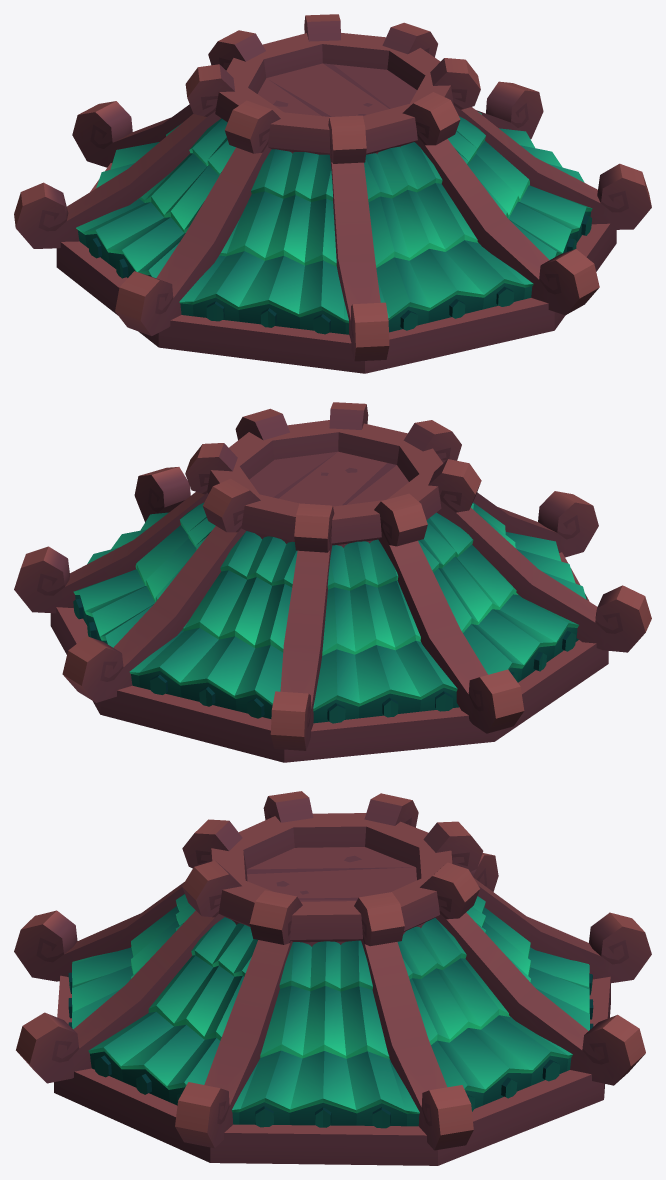
The model's file is roof.glb.
3 views of the same model, one above another, from view 1: azimuth 30°, elevation 25°; view 2: azimuth 150°, elevation 25°; view 3: azimuth 270°, elevation 25° (orthographic). The views are drawn at different scales.
Visible parts, largest first — view 1: roof; view 2: roof; view 3: roof.
Part boxes in pixels (x1,y1,x2,y2): roof: [14, 14, 651, 373]; roof: [14, 402, 651, 762]; roof: [14, 791, 651, 1165].
Bounding box in the file's own units: 5.04 × 1.73 × 5.
Materials: 1 (1 with a texture image).
